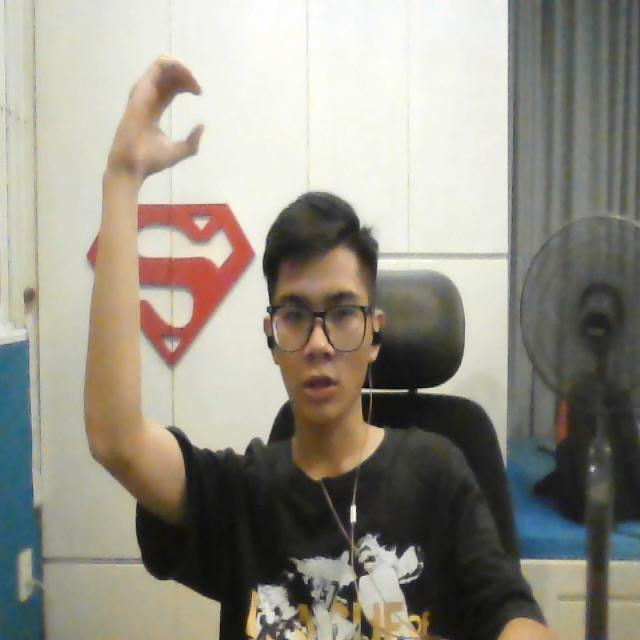C: (105, 45, 207, 174)
